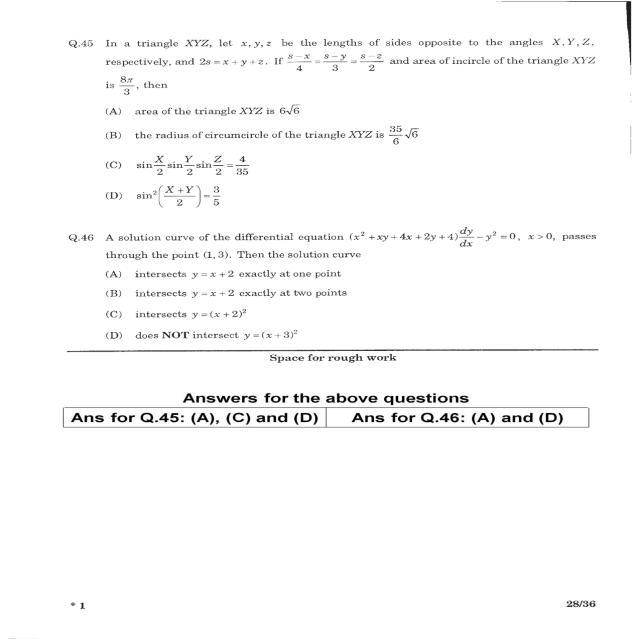Answer_Block: (44, 94, 604, 216), (44, 255, 604, 342)
Description: (44, 374, 604, 508)
Question_Answer_Block: (44, 16, 604, 219), (44, 226, 604, 344)
Question_Block: (44, 16, 604, 96), (44, 226, 604, 263)
Question_Paper_Area: (44, 16, 604, 596)
